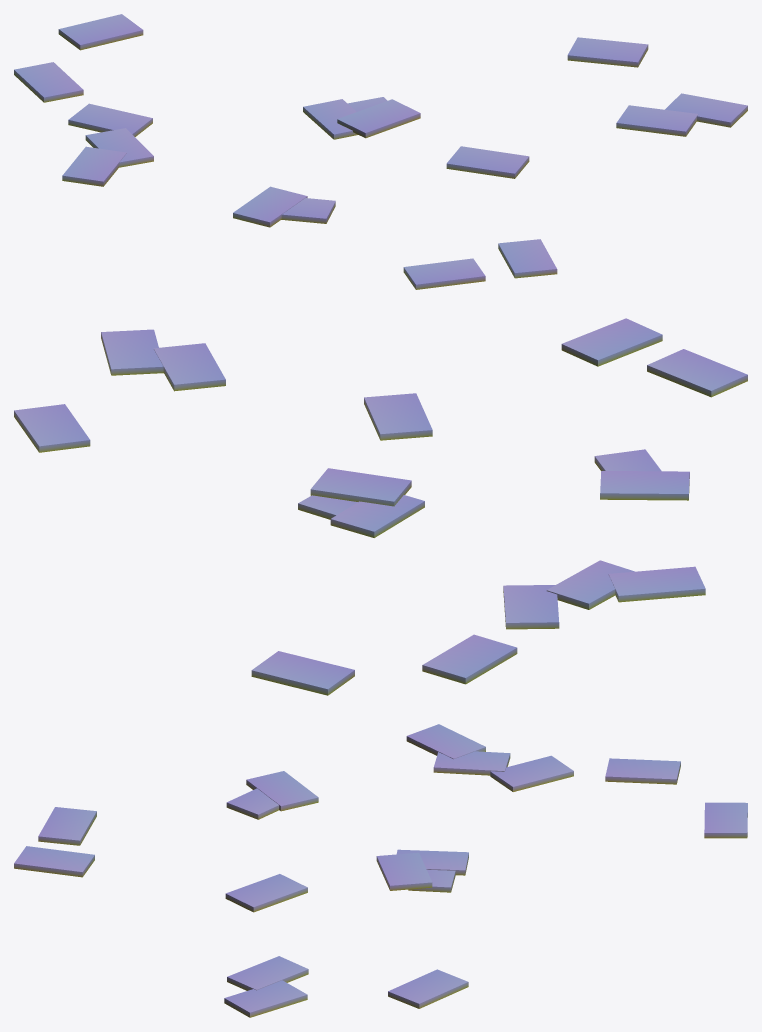
File: env_deco_confetti.glb
3 renders of one model, top to bottom at view 1: azimuth 30°, elevation 25°; view 2: azimuth 150°, elevation 25°; view 3: azimuth 270°, elevation 25°, orthographic. The views are drawn at different scales.
Visible parts, largest first — view 1: env_deco_confetti_mesh; view 2: env_deco_confetti_mesh; view 3: env_deco_confetti_mesh.
Part boxes in pixels (x1,y1,x2,y2): env_deco_confetti_mesh: (14, 14, 747, 289); env_deco_confetti_mesh: (14, 318, 747, 695); env_deco_confetti_mesh: (14, 724, 747, 1017).
Bounding box in the file's own units: 0.4696 × 0.0085 × 0.5116.
